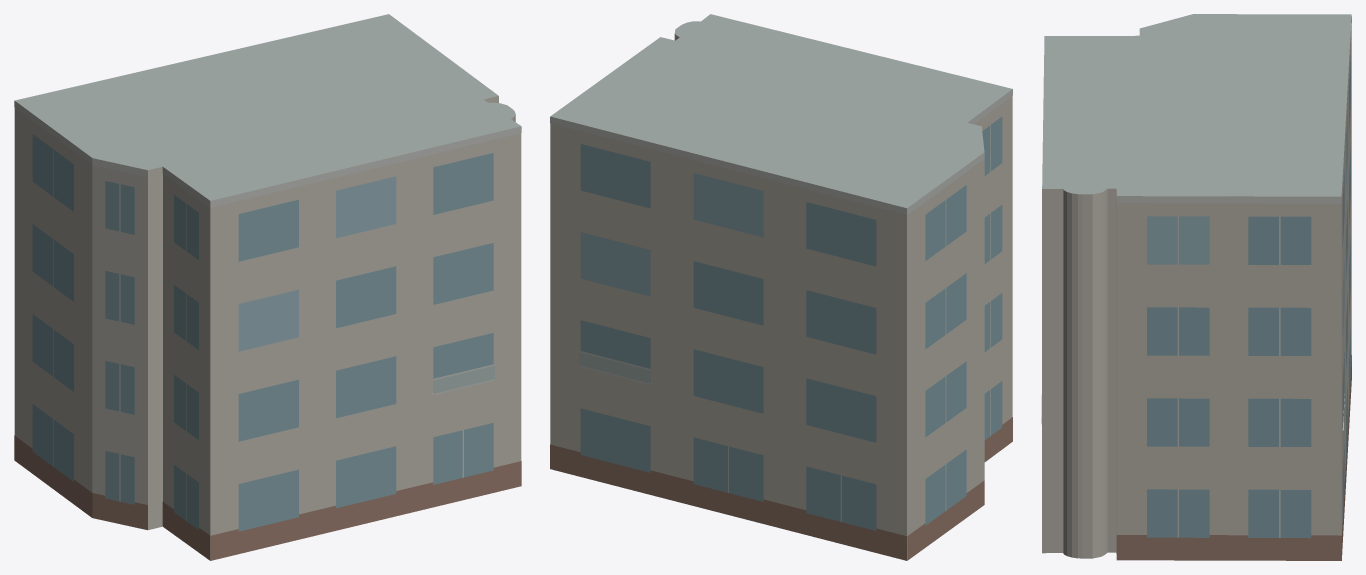
The model's file is survey-upis-32749171.glb.
3 renders of one model, left to right at view 1: azimuth 30°, elevation 25°; view 2: azimuth 150°, elevation 25°; view 3: azimuth 270°, elevation 25°, orthographic. The views are drawn at different scales.
Visible parts, largest first — view 1: survey-upis-32749171.tmp; view 2: survey-upis-32749171.tmp; view 3: survey-upis-32749171.tmp.
Part boxes in pixels (left/top/right/bottom): survey-upis-32749171.tmp: left=14, top=14, right=521, bottom=560; survey-upis-32749171.tmp: left=550, top=14, right=1012, bottom=560; survey-upis-32749171.tmp: left=1041, top=14, right=1351, bottom=560.
Size of the model in its own units: 13.67 by 12.7 by 9.83.
